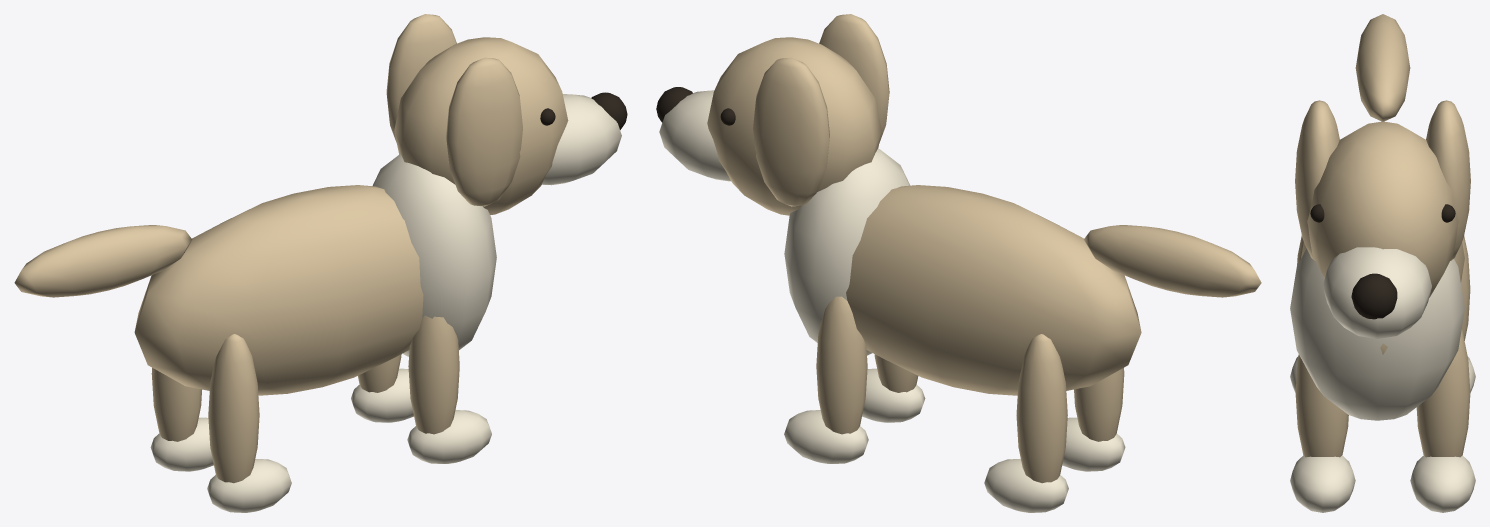
File: puppy.glb
3 views of the same model, side by side, from view 1: azimuth 30°, elevation 25°; view 2: azimuth 150°, elevation 25°; view 3: azimuth 270°, elevation 25° (orthographic). The views are drawn at different scales.
Visible parts, largest first — view 1: Warm puppy coat merged, Cream puppy chest merged, Tail, Leg.002, Leg, Paw.002, Paw, Leg.003, Paw.003, Paw.001, Leg.001, Puppy eyes and nose merged; view 2: Warm puppy coat merged, Cream puppy chest merged, Tail, Leg.003, Leg.001, Paw.003, Paw.001, Leg.002, Paw.002, Paw, Leg, Puppy eyes and nose merged; view 3: Warm puppy coat merged, Cream puppy chest merged, Tail, Leg.001, Leg, Paw, Paw.001, Puppy eyes and nose merged, Leg.003.
Boxes of the visible parts, bbox=[...] form: Warm puppy coat merged: bbox=[134, 14, 568, 395]; Cream puppy chest merged: bbox=[372, 94, 621, 356]; Tail: bbox=[14, 225, 192, 297]; Leg.002: bbox=[208, 334, 259, 483]; Leg: bbox=[408, 315, 459, 434]; Paw.002: bbox=[207, 459, 291, 512]; Paw: bbox=[407, 410, 491, 463]; Leg.003: bbox=[151, 367, 201, 441]; Paw.003: bbox=[150, 417, 213, 471]; Paw.001: bbox=[351, 368, 413, 422]; Leg.001: bbox=[358, 354, 401, 392]; Puppy eyes and nose merged: bbox=[540, 92, 627, 129]; Warm puppy coat merged: bbox=[707, 14, 1141, 395]; Cream puppy chest merged: bbox=[659, 90, 910, 355]; Tail: bbox=[1084, 225, 1261, 297]; Leg.003: bbox=[1016, 334, 1067, 483]; Leg.001: bbox=[816, 296, 867, 434]; Paw.003: bbox=[984, 459, 1068, 512]; Paw.001: bbox=[784, 410, 868, 463]; Leg.002: bbox=[1074, 368, 1124, 441]; Paw.002: bbox=[1062, 417, 1125, 471]; Paw: bbox=[862, 368, 925, 422]; Leg: bbox=[874, 354, 918, 392]; Puppy eyes and nose merged: bbox=[656, 87, 735, 125]; Warm puppy coat merged: bbox=[1295, 100, 1470, 354]; Cream puppy chest merged: bbox=[1290, 247, 1464, 420]; Tail: bbox=[1355, 14, 1410, 121]; Leg.001: bbox=[1416, 329, 1470, 457]; Leg: bbox=[1295, 354, 1348, 457]; Paw: bbox=[1290, 455, 1355, 512]; Paw.001: bbox=[1410, 455, 1475, 512]; Puppy eyes and nose merged: bbox=[1310, 204, 1455, 319]; Leg.003: bbox=[1461, 235, 1470, 340].
Size of the model in its own units: 1.36 by 0.85 by 0.34.
